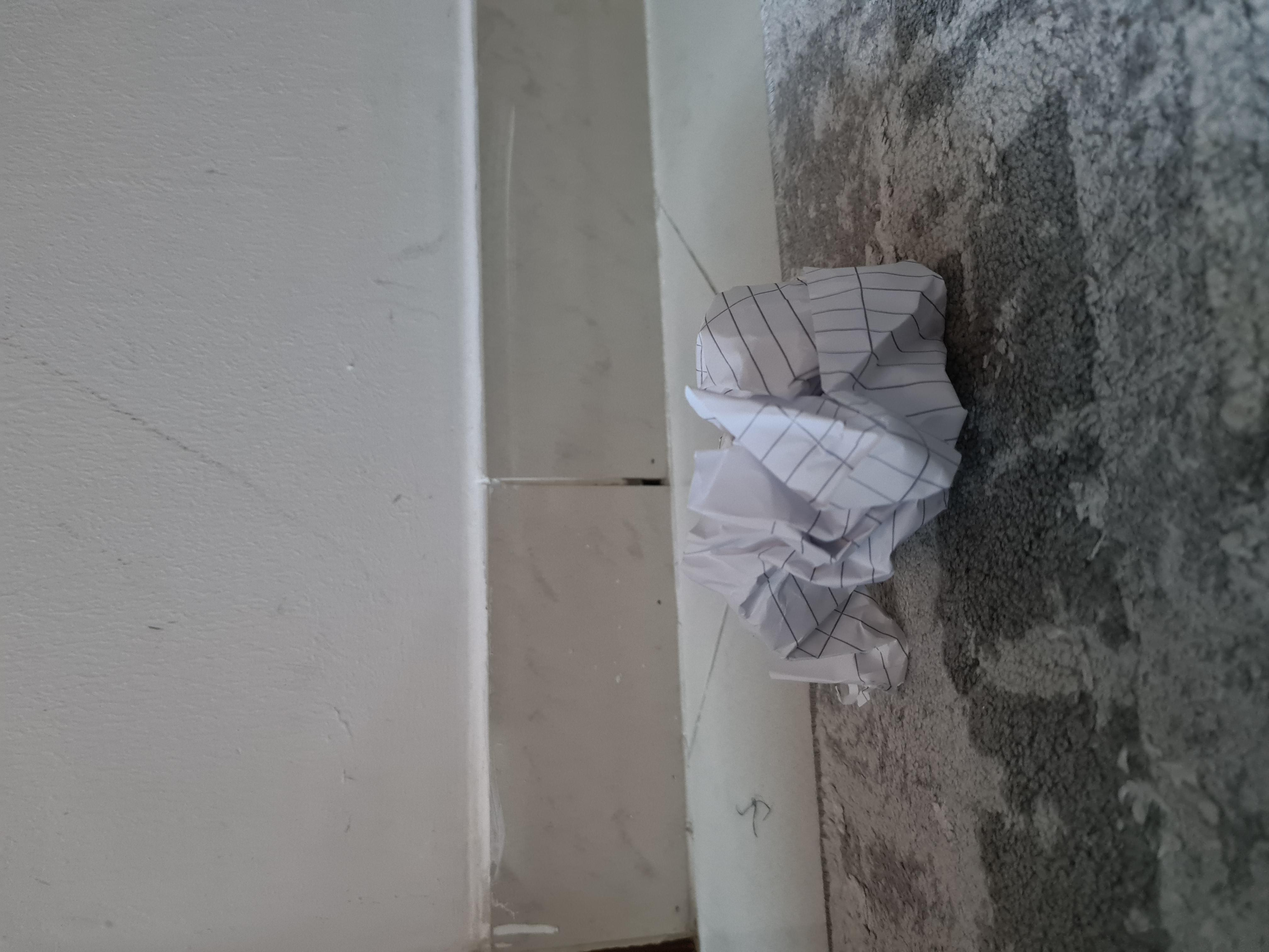paper: (316, 510, 925, 718)
